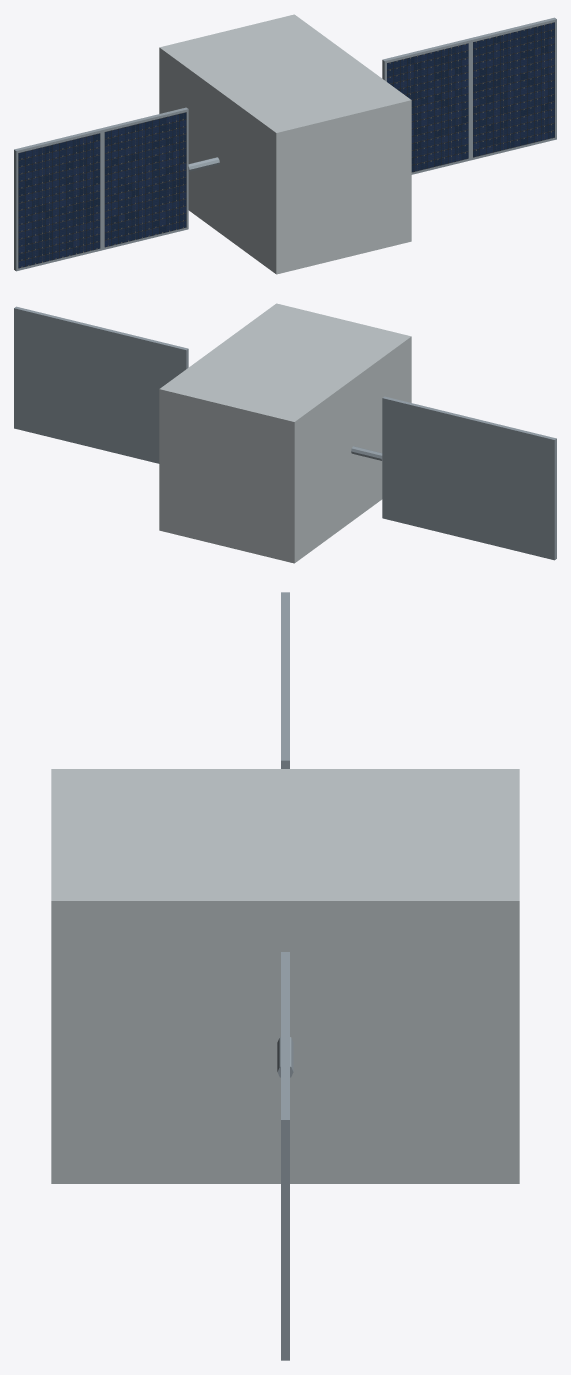
Rendered from ref-cast-2000-28479.glb.
The picture shows the model from 3 angles, top to bottom: view 1: azimuth 30°, elevation 25°; view 2: azimuth 150°, elevation 25°; view 3: azimuth 270°, elevation 25°; orthographic projection. The views are drawn at different scales.
Visible parts, largest first — view 1: Spacecraft body, Photovoltaic laminates (×4), Array frame (×4); view 2: Spacecraft body, Array frame (×4); view 3: Spacecraft body, Array frame.
Boxes of the visible parts, x1,y1,x2,y2 form: Spacecraft body: (159, 14, 411, 274); Photovoltaic laminates (×4): (18, 22, 554, 268); Array frame (×4): (14, 17, 556, 271); Spacecraft body: (159, 303, 411, 563); Array frame (×4): (14, 306, 556, 560); Spacecraft body: (51, 769, 519, 1183); Array frame: (281, 1036, 289, 1360).
Bounding box in the file's own units: 4 × 1 × 1.5.
Materials: 3 (1 with a texture image).
